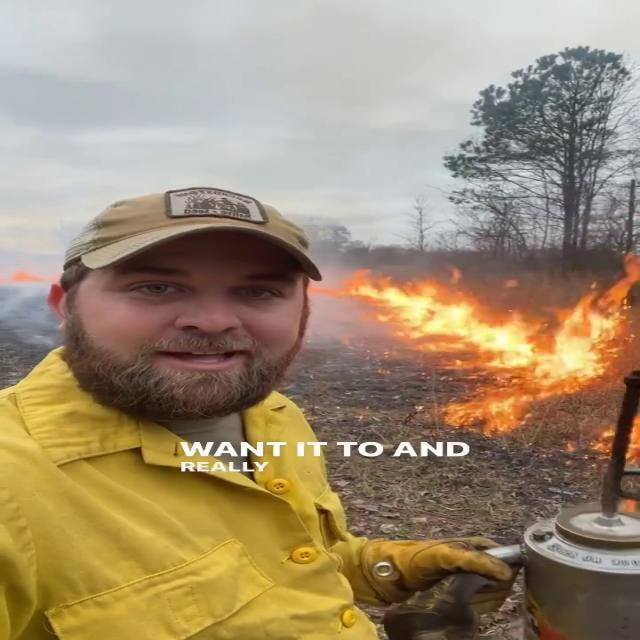Fire: (336, 262, 638, 428)
